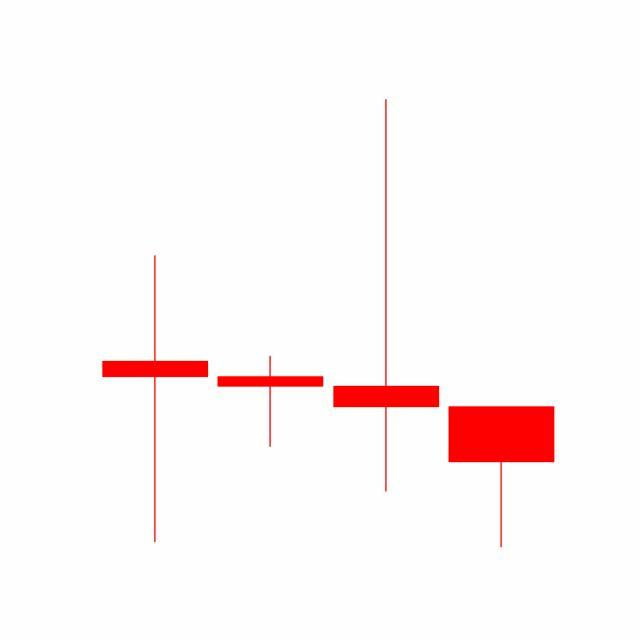Spinning Top: (329, 96, 445, 498)
